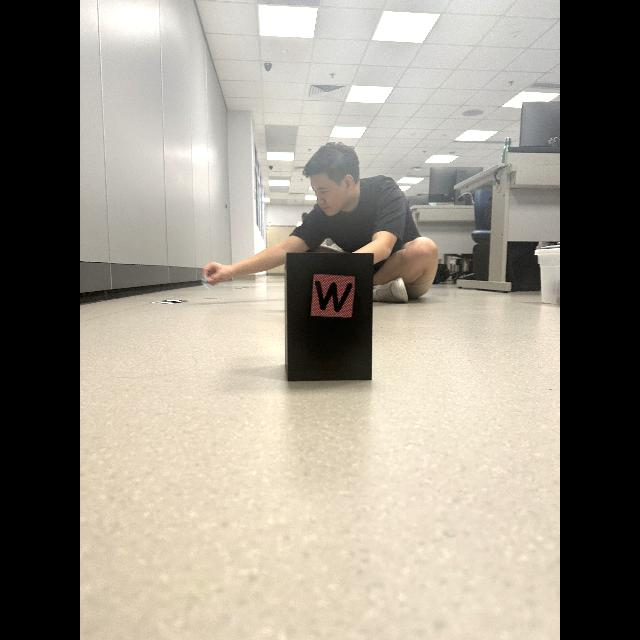W: (315, 281, 353, 312)
